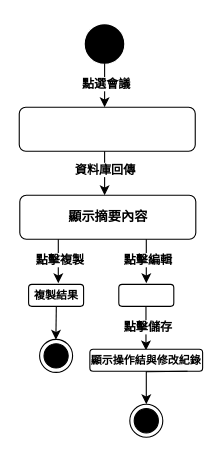
Image size: 222x457. Some labels were removed from this diagram. Each missing label, with the centre of its shape:
編輯摘要: (x=146, y=294)
載入會議摘要中: (x=106, y=128)
